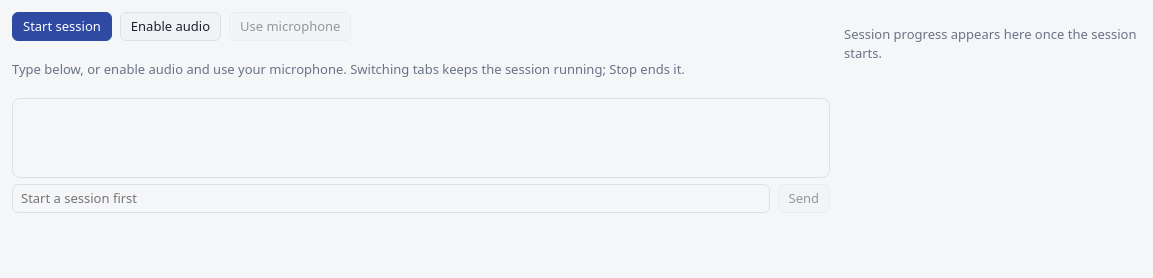
it: Studio audio › reports permission denial, leaves text usable, and renders speech transcripts
Click the button "Start session": (62, 26) [12,12,112,41]
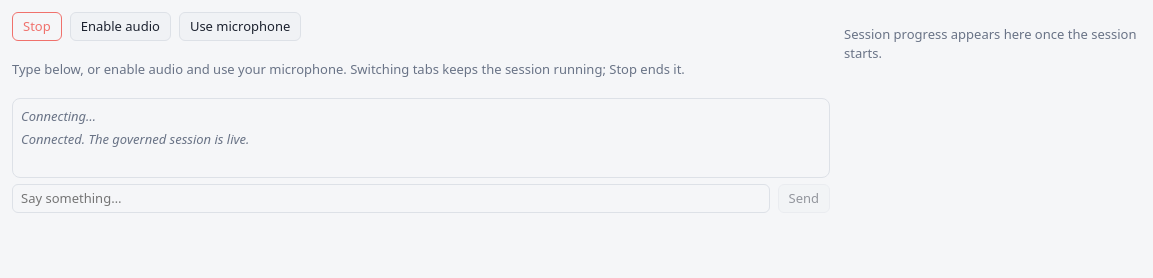
Click the button "Enable audio": (120, 26) [70,12,171,41]
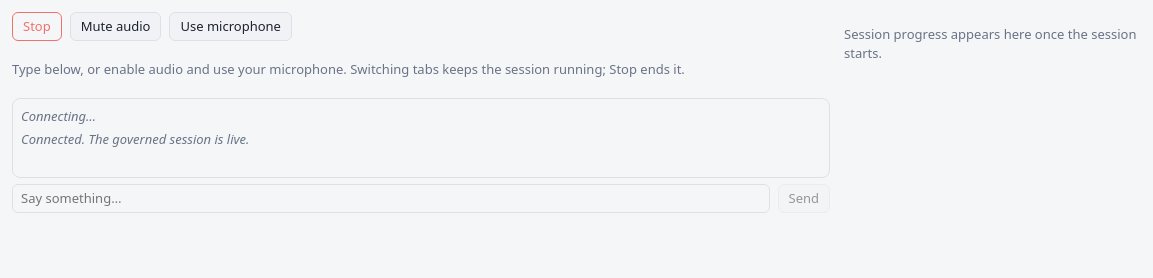
Click the button "Use microphone": (231, 26) [170,12,292,41]
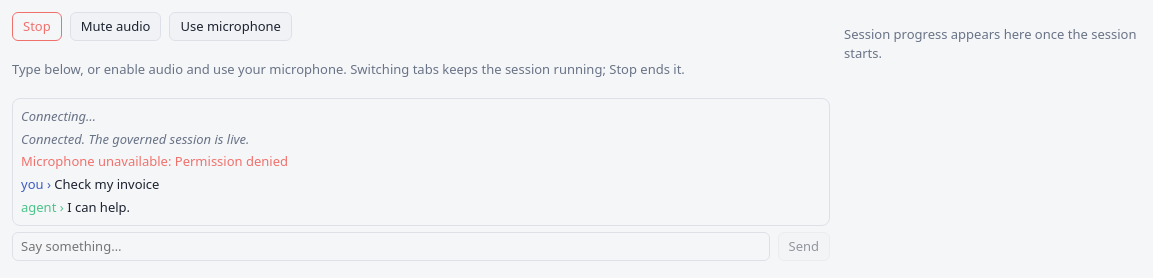
Now the field with placeholder "Say something…" is enabled, box [12,232,770,261]
Now the text "Microphone unavailable: Permission denied" is shown, box [21,152,288,170]
Now the text with class "line-user" reads "Check my invoice", box [54,175,159,193]
